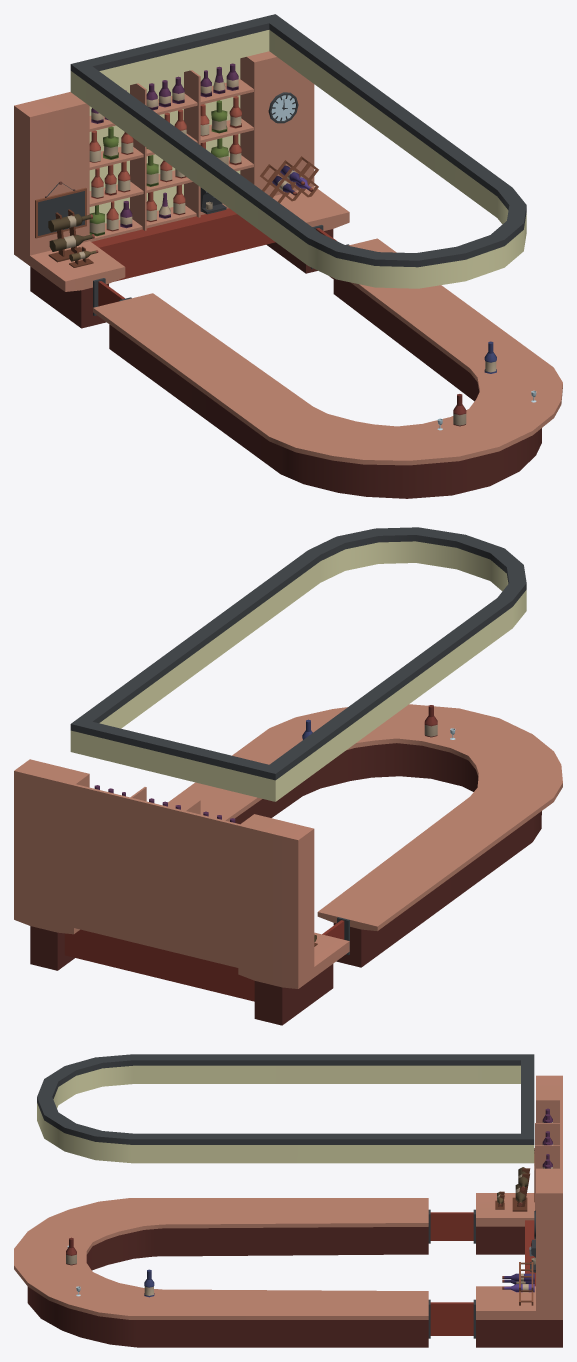
The model's file is SM_GameArea_BarCounter_02.fbx.
3 views of the same model, one above another, from view 1: azimuth 30°, elevation 25°; view 2: azimuth 150°, elevation 25°; view 3: azimuth 270°, elevation 25° (orthographic). The views are drawn at different scales.
Parts seen in each view (by area): view 1: SM_GameArea_BarCounter_02; view 2: SM_GameArea_BarCounter_02; view 3: SM_GameArea_BarCounter_02.
Part boxes in pixels (left/top/right/bottom): SM_GameArea_BarCounter_02: left=14, top=14, right=562, bottom=498; SM_GameArea_BarCounter_02: left=14, top=527, right=562, bottom=1025; SM_GameArea_BarCounter_02: left=14, top=1054, right=562, bottom=1347.
Size of what is drawn, in the model's own units: 2374 by 1863 by 4672.
